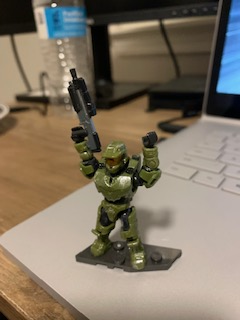chief: (70, 126, 163, 270)
rifle: (67, 67, 103, 156)
spartan: (68, 124, 161, 268)
up: (71, 126, 162, 204)
